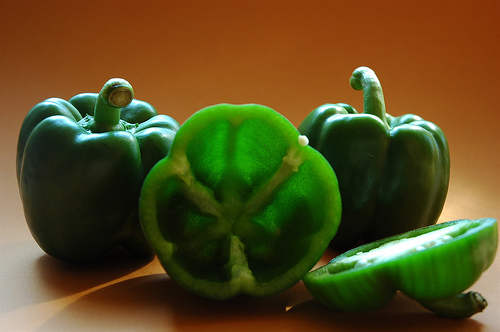capsicum: (133, 102, 344, 304), (14, 77, 182, 267), (295, 65, 452, 255), (301, 216, 499, 319)
